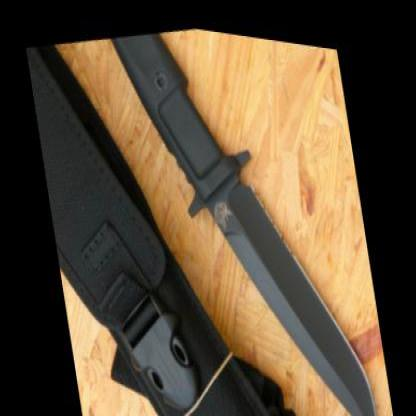knife: (173, 102, 385, 414)
